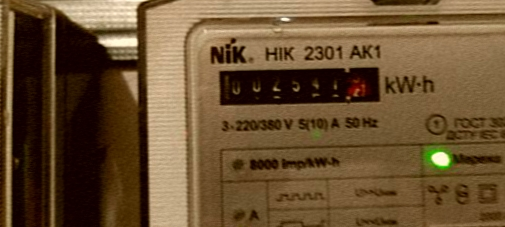0: (230, 75, 243, 96), (251, 72, 263, 93)
1: (330, 72, 341, 92)
2: (271, 73, 283, 93)
4: (311, 71, 323, 92)
5: (290, 72, 302, 94)
6: (352, 84, 363, 99)
screen: (210, 57, 393, 114)
